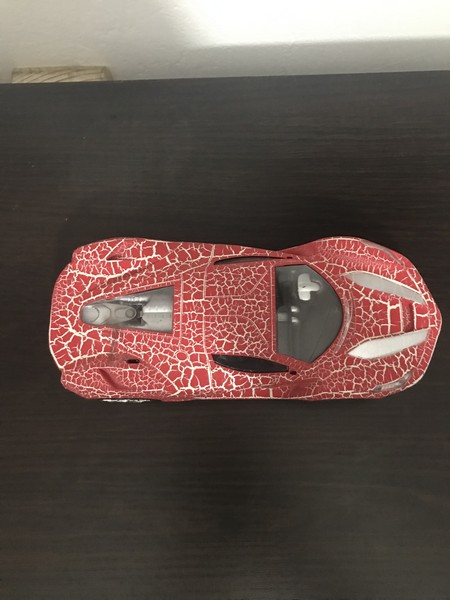RC: (46, 234, 444, 409)
